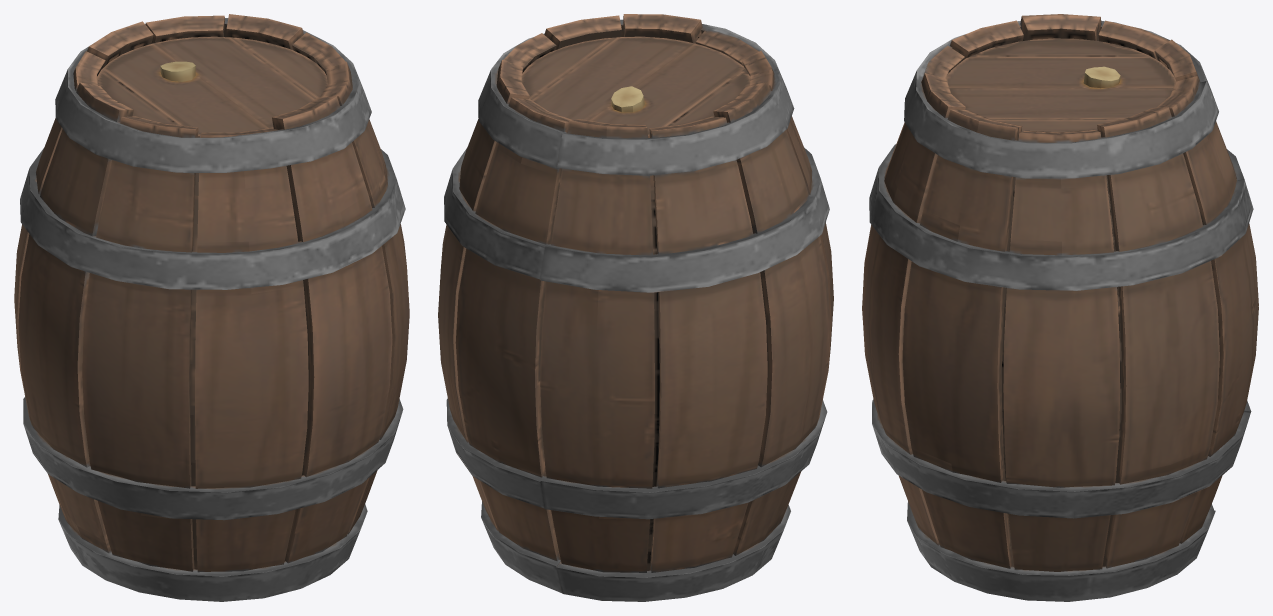
Rendered from Barrel_1.fbx.
3 views of the same model, side by side, from view 1: azimuth 30°, elevation 25°; view 2: azimuth 150°, elevation 25°; view 3: azimuth 270°, elevation 25° (orthographic).
Parts seen in each view (by area): view 1: Barrel_1_LOD0; view 2: Barrel_1_LOD0; view 3: Barrel_1_LOD0.
Part boxes in pixels (x1=…): Barrel_1_LOD0: x1=14, y1=14, x2=409, y2=601; Barrel_1_LOD0: x1=438, y1=14, x2=833, y2=601; Barrel_1_LOD0: x1=862, y1=14, x2=1258, y2=601.
Size of what is drawn, in the model's own units: 57.63 by 75.73 by 57.62.
